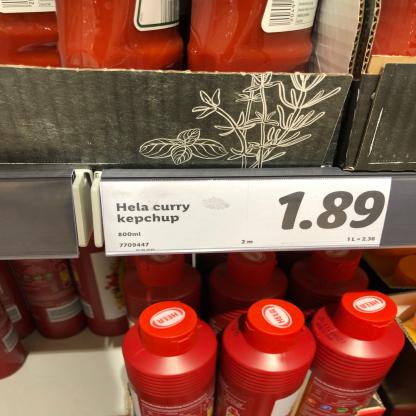prtg: (99, 179, 393, 256)
